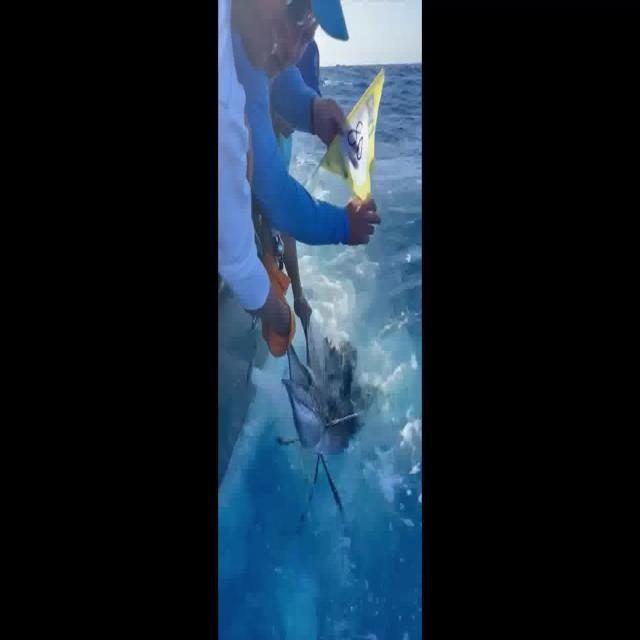Liberacion segura: (275, 314, 377, 528)
